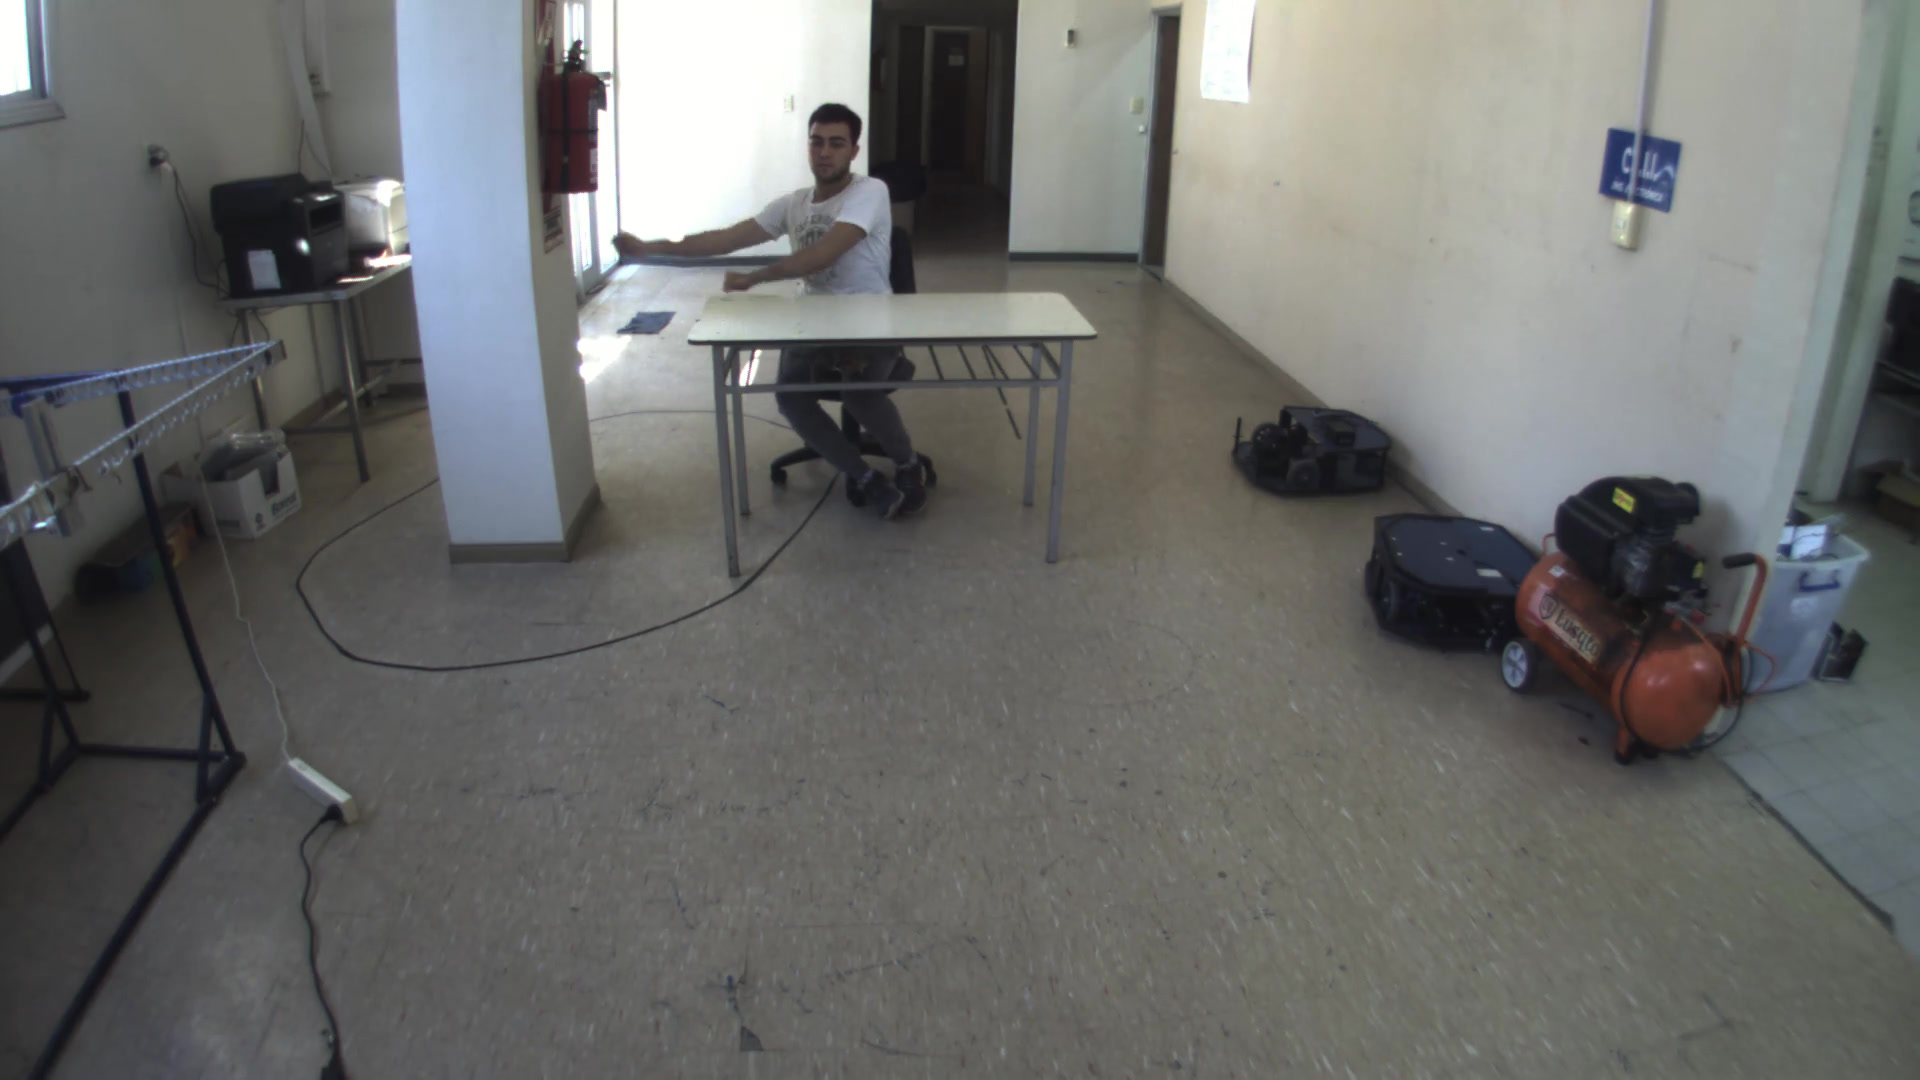hand: (608, 212, 650, 265), (713, 261, 754, 305)
